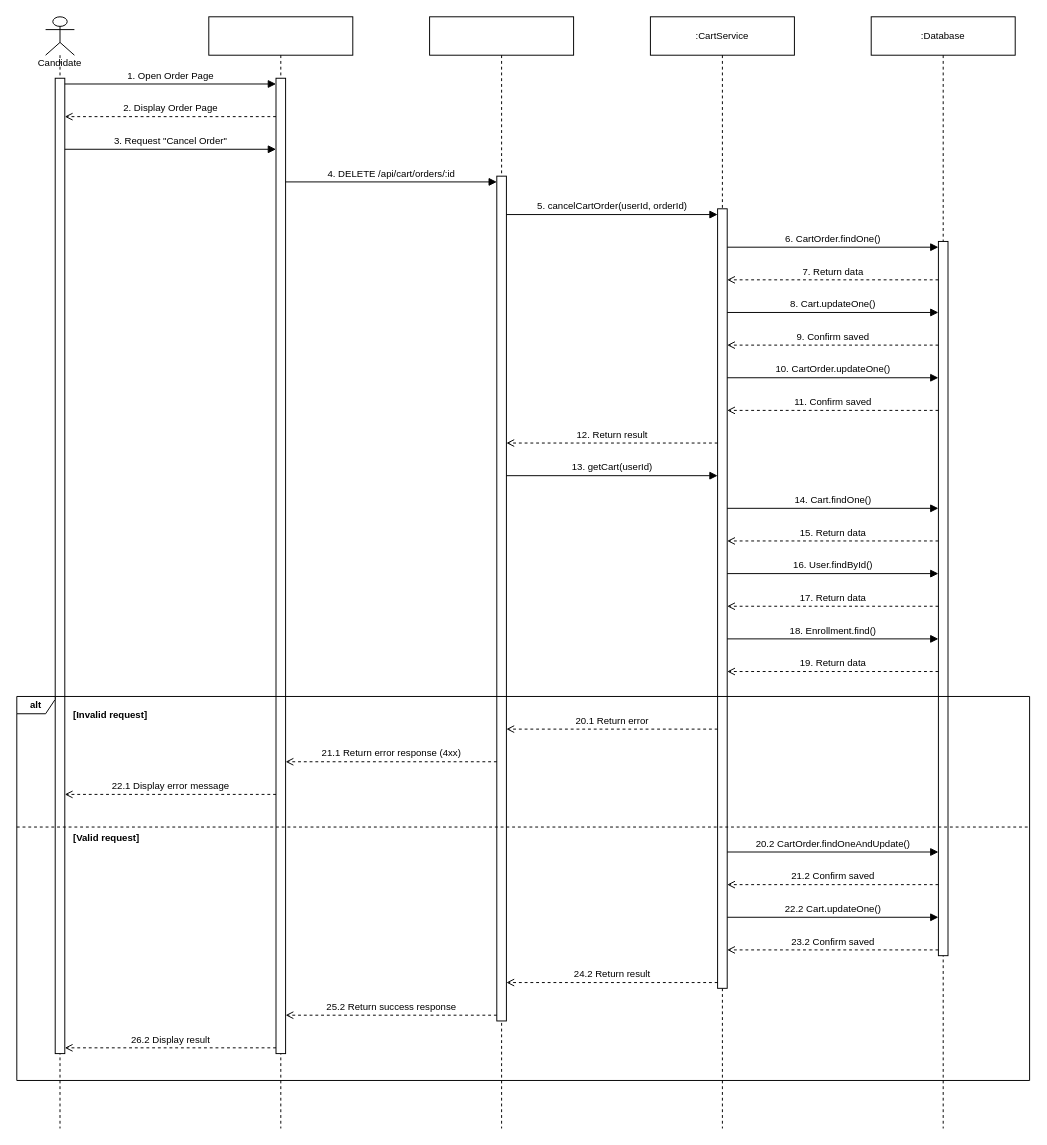
This 1047x1145 diagram has some shape labels left out. Here are the shapes that lost their labels. From the top down, the box of each, then its label:
(208, 16, 353, 1128): :Order Page
(429, 16, 574, 1128): :CartRouter
